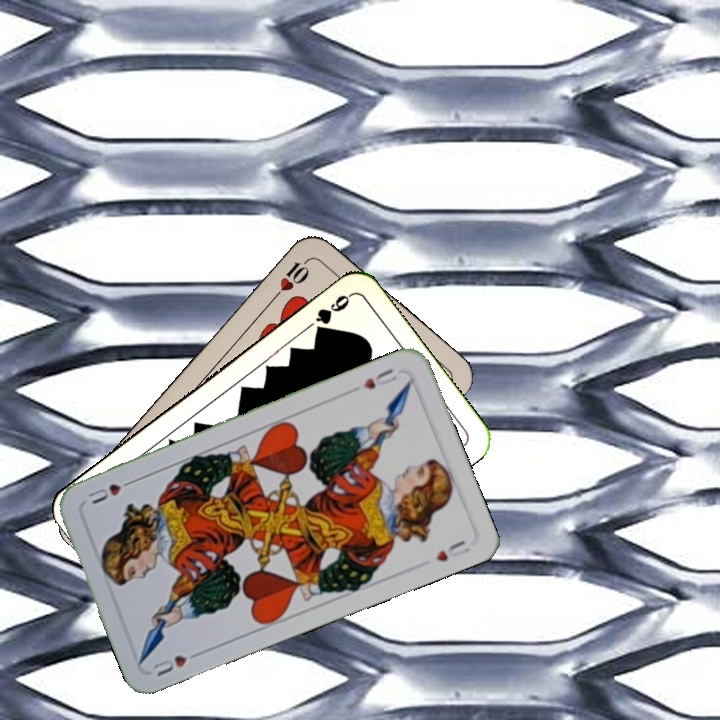G9: (310, 290, 355, 339)
H10: (268, 255, 312, 303)
HU: (149, 646, 205, 679), (358, 364, 402, 392)
